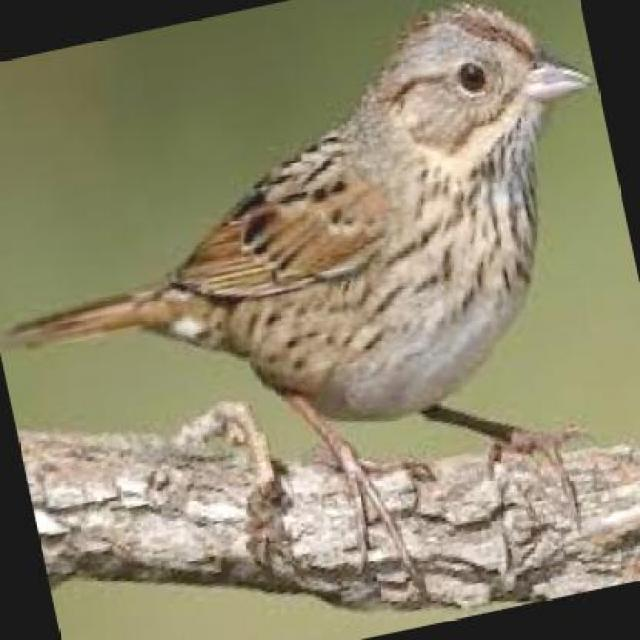Bird: (3, 2, 605, 473)
